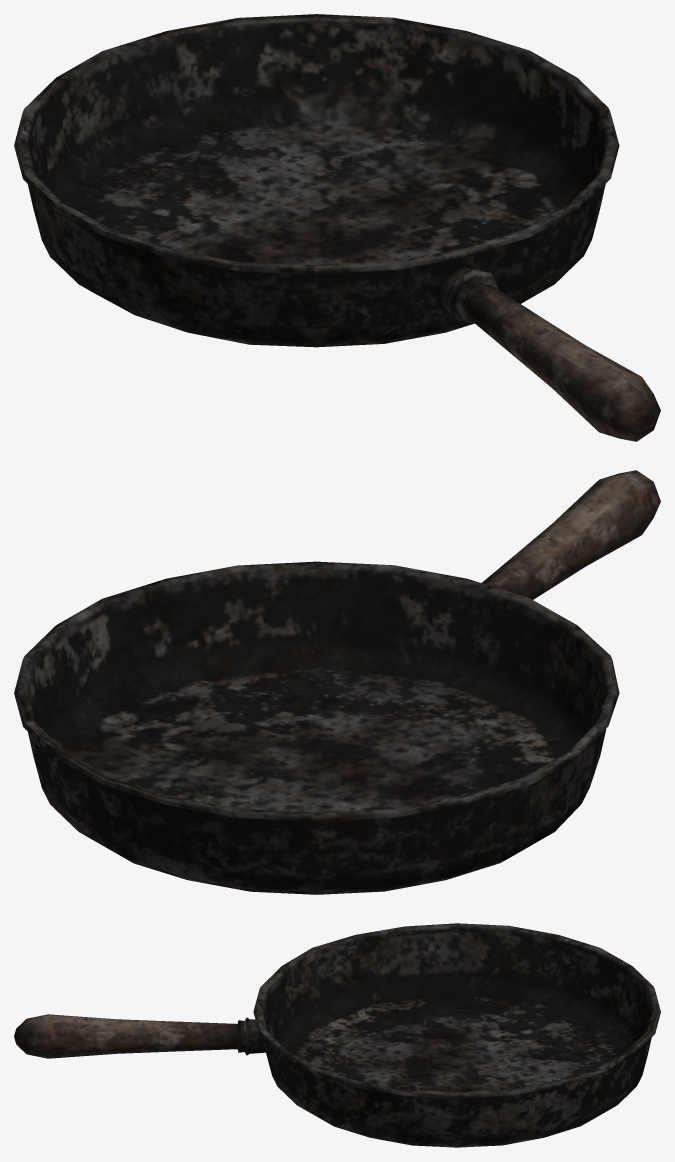
File: UDKS_04.fbx
The picture shows the model from 3 angles, top to bottom: view 1: azimuth 30°, elevation 25°; view 2: azimuth 150°, elevation 25°; view 3: azimuth 270°, elevation 25°; orthographic projection. The views are drawn at different scales.
Parts seen in each view (by area): view 1: UDKS_04; view 2: UDKS_04; view 3: UDKS_04.
Part boxes in pixels (x1=…): UDKS_04: x1=14, y1=14, x2=660, y2=441; UDKS_04: x1=14, y1=470, x2=660, y2=894; UDKS_04: x1=14, y1=923, x2=660, y2=1147.
Bounding box in the file's own units: 33.23 × 5.88 × 52.74.
1 material, 1 textured.
